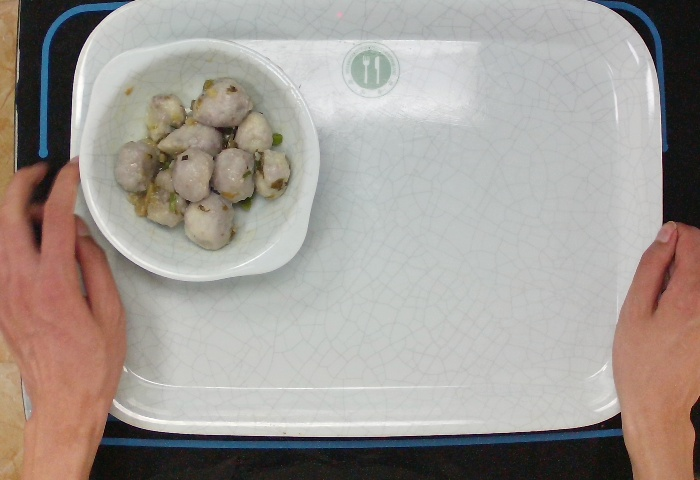JYsf-Shuang_Er_Wan: (75, 37, 322, 287)
